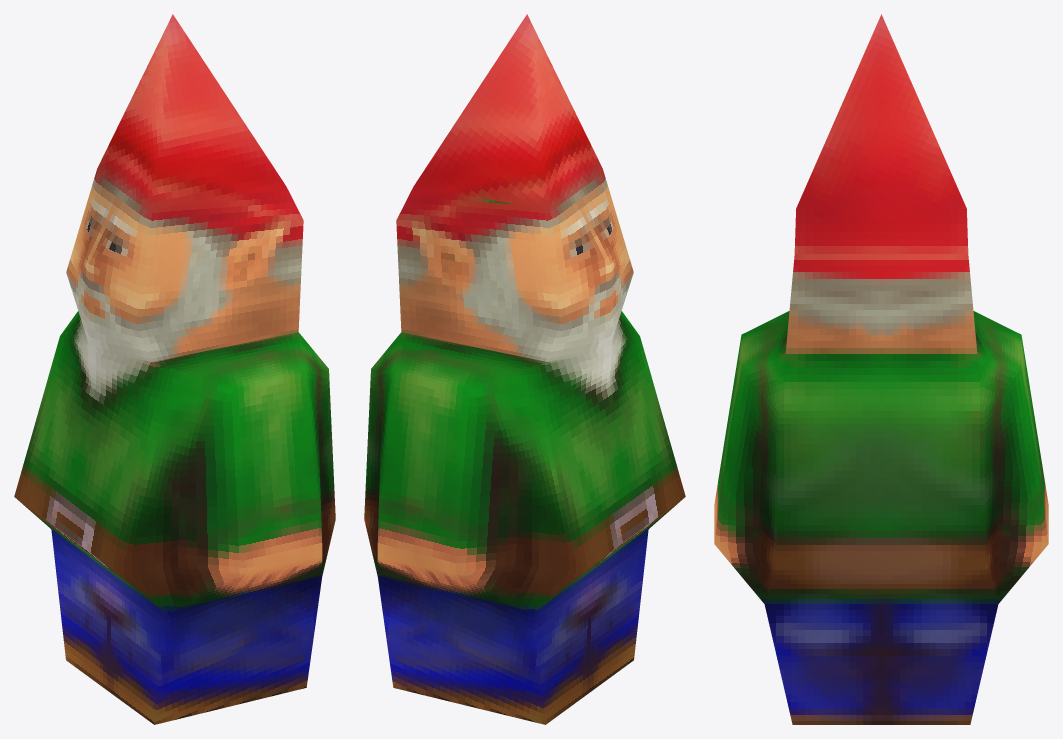
File: garden-gnome.glb
3 renders of one model, left to right at view 1: azimuth 30°, elevation 25°; view 2: azimuth 150°, elevation 25°; view 3: azimuth 270°, elevation 25°, orthographic.
Parts seen in each view (by area): view 1: Cube_0; view 2: Cube_0; view 3: Cube_0.
Part boxes in pixels (left/top/right/bottom): Cube_0: left=14, top=14, right=335, bottom=724; Cube_0: left=364, top=14, right=685, bottom=724; Cube_0: left=714, top=14, right=1048, bottom=724.
Bounding box in the file's own units: 0.8617 × 2.51 × 1.14.
1 material, 1 textured.
